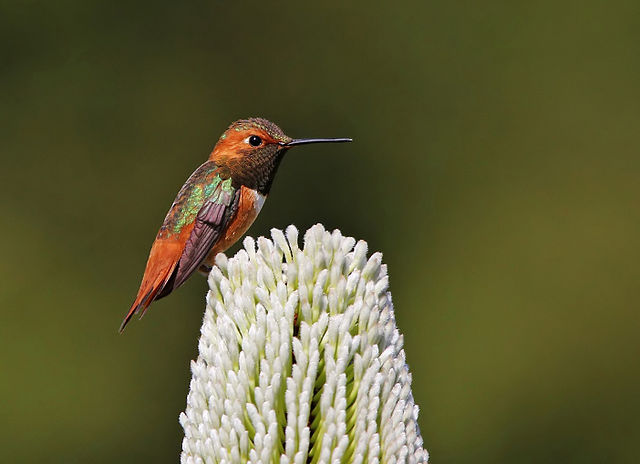selasphorus sasin: (118, 116, 352, 331)
